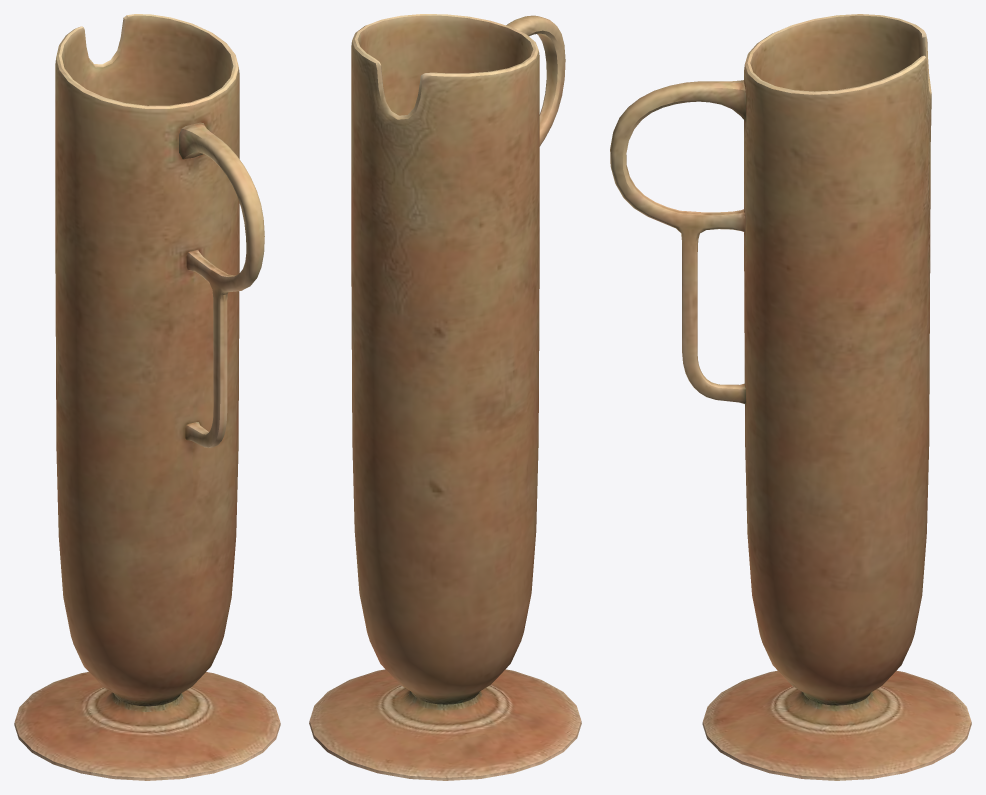
File: vase-brass-b.glb
3 renders of one model, left to right at view 1: azimuth 30°, elevation 25°; view 2: azimuth 150°, elevation 25°; view 3: azimuth 270°, elevation 25°, orthographic. The views are drawn at different scales.
Visible parts, largest first — view 1: vase-brass-b; view 2: vase-brass-b; view 3: vase-brass-b.
Boxes of the visible parts, x1,y1,x2,y2 form: vase-brass-b: (14, 14, 280, 780); vase-brass-b: (309, 14, 581, 780); vase-brass-b: (610, 14, 971, 780).
Bounding box in the file's own units: 0.061 × 0.1703 × 0.082.
Materials: 1 (1 with a texture image).
